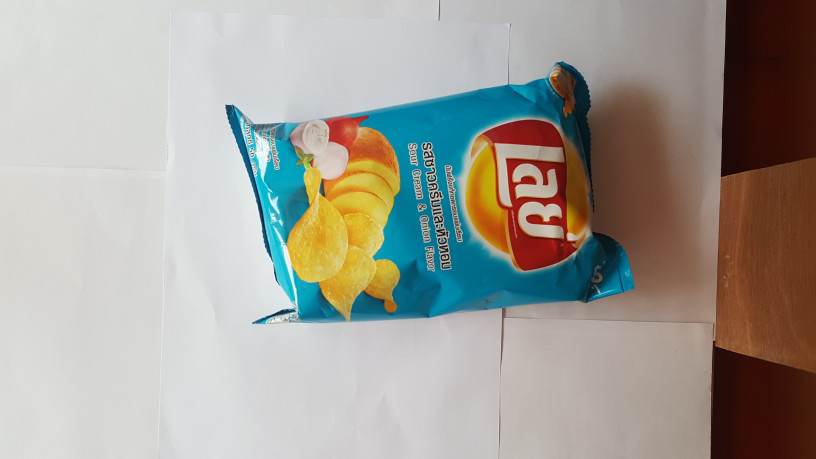lays-onion: (206, 63, 646, 350)
